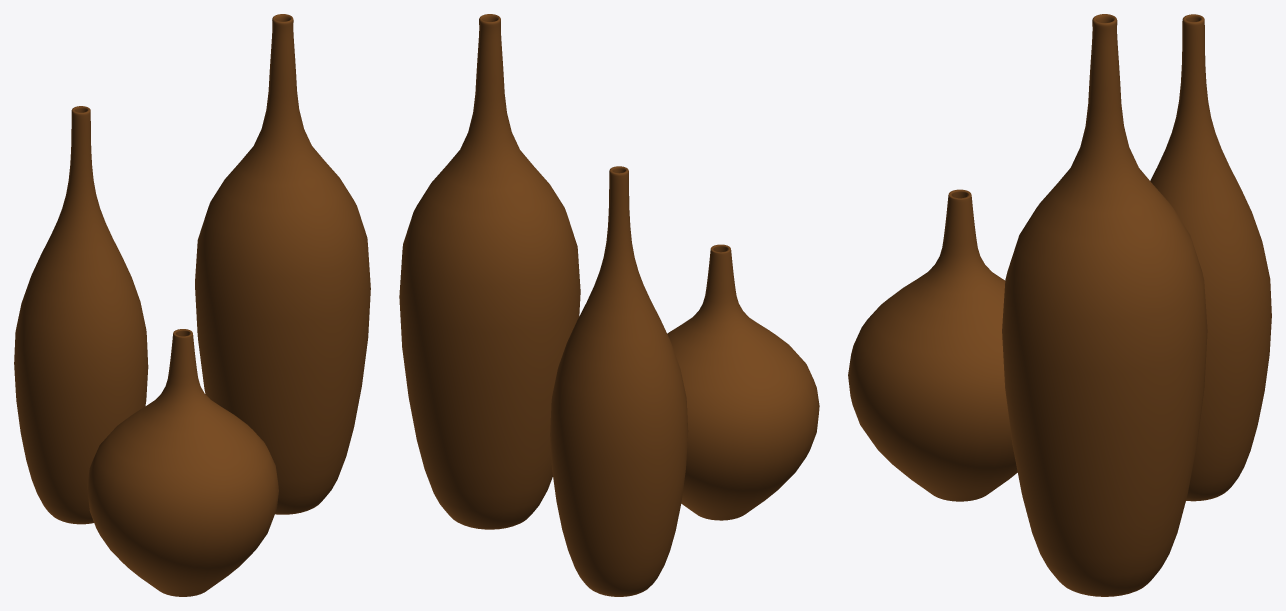
Rendered from jarrones2.fbx.
The picture shows the model from 3 angles, left to right: view 1: azimuth 30°, elevation 25°; view 2: azimuth 150°, elevation 25°; view 3: azimuth 270°, elevation 25°; orthographic projection. The views are drawn at different scales.
Parts seen in each view (by area): view 1: Vase_01, Vase_03, Vase_02; view 2: Vase_01, Vase_03, Vase_02; view 3: Vase_01, Vase_02, Vase_03.
Part boxes in pixels (left/top/right/bottom): Vase_01: left=195, top=14, right=370, bottom=514; Vase_03: left=14, top=106, right=148, bottom=524; Vase_02: left=87, top=329, right=278, bottom=596; Vase_01: left=399, top=14, right=580, bottom=529; Vase_03: left=550, top=166, right=688, bottom=596; Vase_02: left=667, top=244, right=819, bottom=520; Vase_01: left=1002, top=14, right=1207, bottom=596; Vase_02: left=848, top=189, right=1017, bottom=501; Vase_03: left=1150, top=14, right=1271, bottom=501.
Bounding box in the file's own units: 83.92 × 120 × 82.26.
